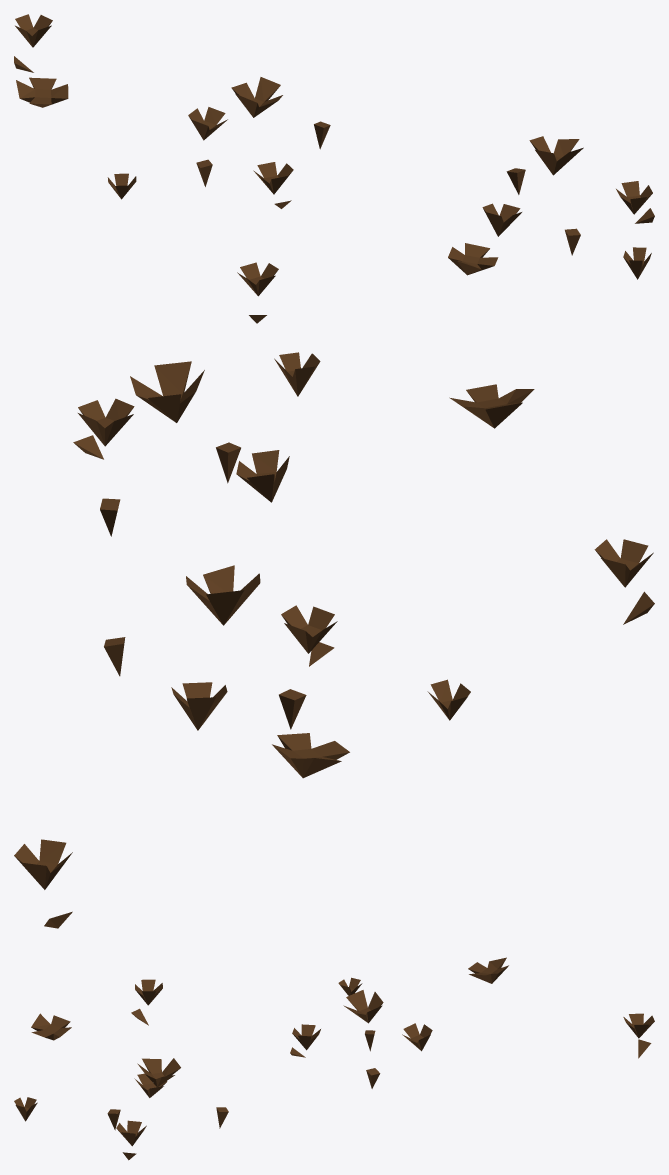
File: SM_Flower_Daisy_Floating_Group_A.fbx
The picture shows the model from 3 angles, top to bottom: view 1: azimuth 30°, elevation 25°; view 2: azimuth 150°, elevation 25°; view 3: azimuth 270°, elevation 25°; orthographic projection. The views are drawn at different scales.
Parts seen in each view (by area): view 1: flower-daisy-floating-group-a; view 2: flower-daisy-floating-group-a; view 3: flower-daisy-floating-group-a.
Boxes of the visible parts, x1,y1,x2,y2 form: flower-daisy-floating-group-a: (14, 14, 654, 323); flower-daisy-floating-group-a: (14, 352, 654, 928); flower-daisy-floating-group-a: (14, 957, 654, 1160).
Bounding box in the file's own units: 1.09 × 0.2576 × 1.88.
